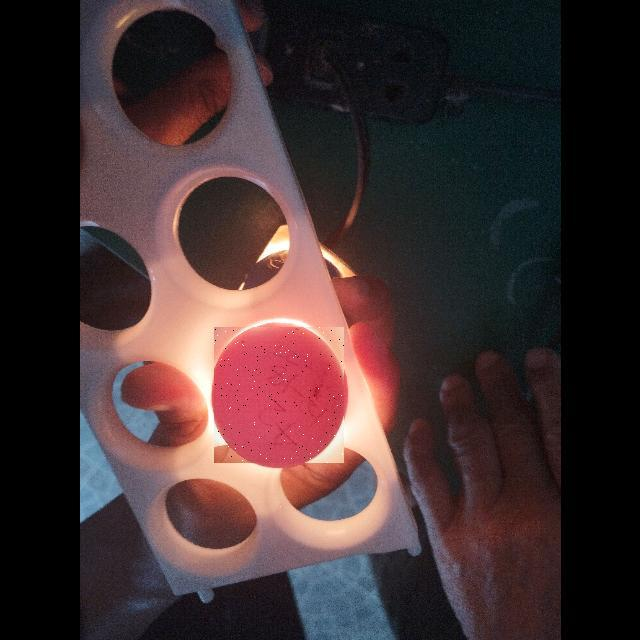Infertile: (214, 327, 344, 463)
